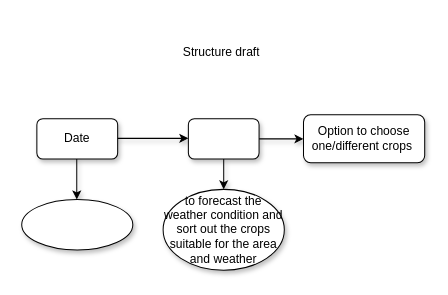
Some shapes in this 448 by 295 pixel diagram are drawn without their labels. Each missing label, with the centre of its shape:
"Identifying the season" goes at point 78,225.
"Place" goes at point 224,140.
